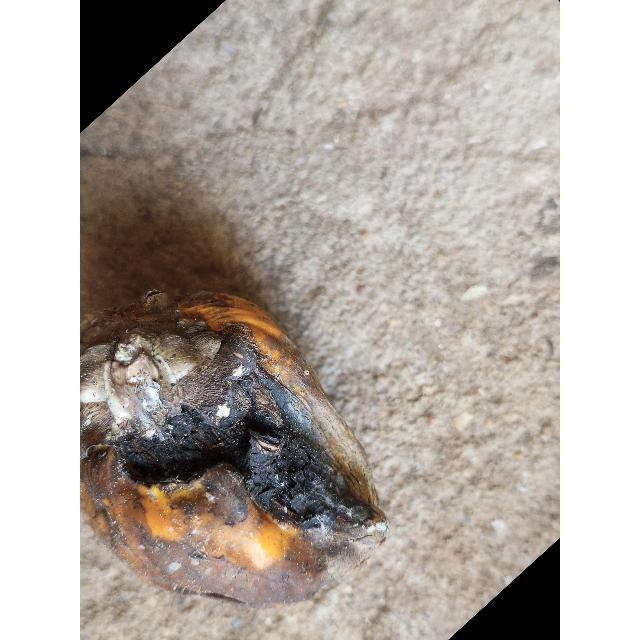damaged: (80, 295, 388, 609)
